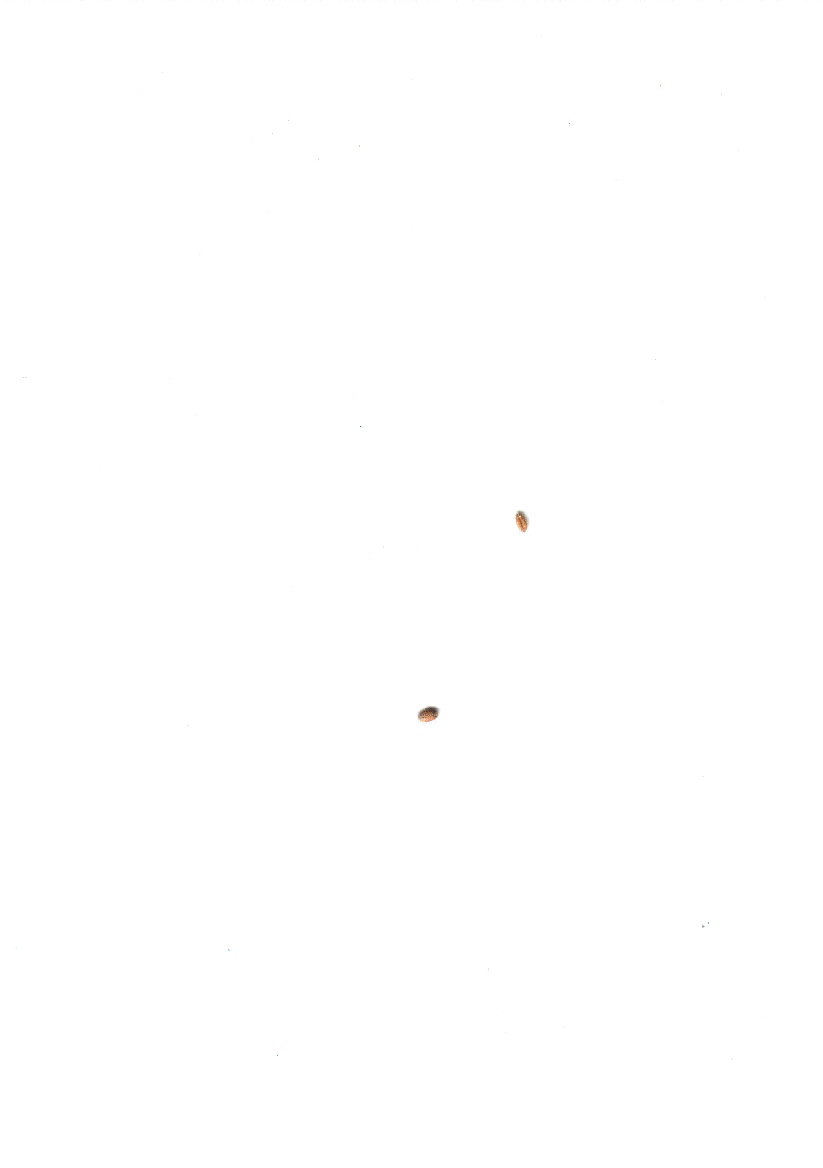grains: (499, 501, 541, 545), (411, 698, 447, 743)
